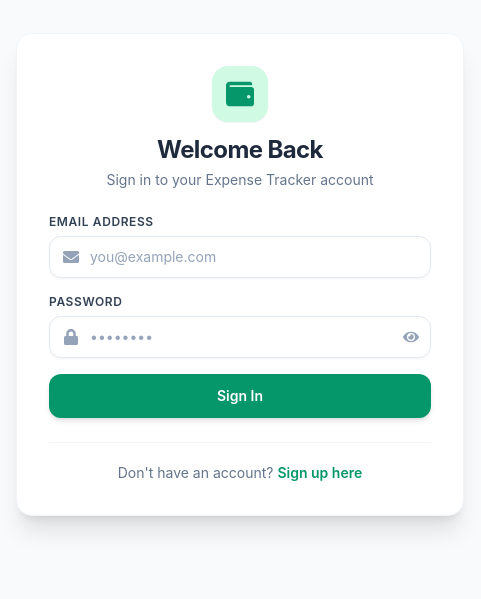
LoginPage Component › validates empty email and displays Alert banner
What coordinates should you click on to do the following:
click the button "Sign In"
I would click on:
 (240, 396)
Its box is [49, 374, 431, 418].
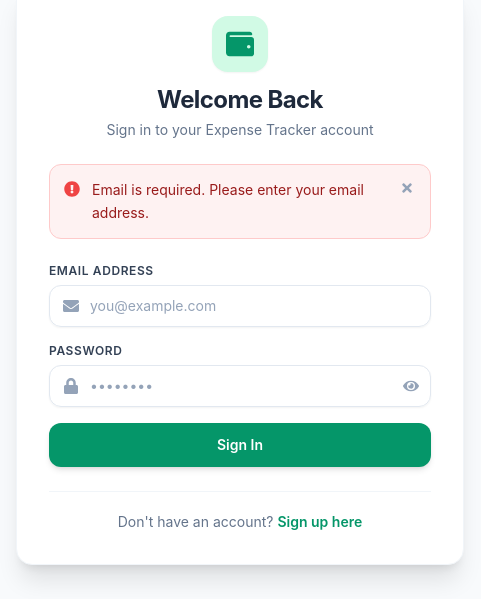
Expected: the message "Email is required. Please enter your email address." is shown, [49, 164, 431, 239]
Expected: the text "Email is required. Please enter your email address." is shown, [92, 179, 382, 224]
